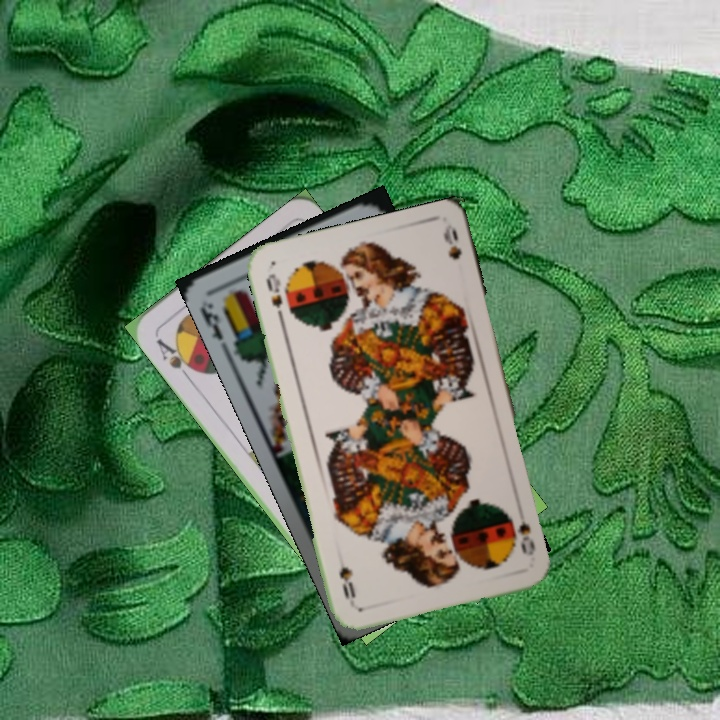EK: (196, 303, 226, 343)
SA: (152, 334, 201, 382)
SO: (504, 504, 538, 559), (262, 269, 287, 325)
